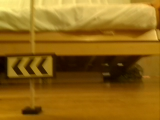left: (6, 55, 55, 77)
